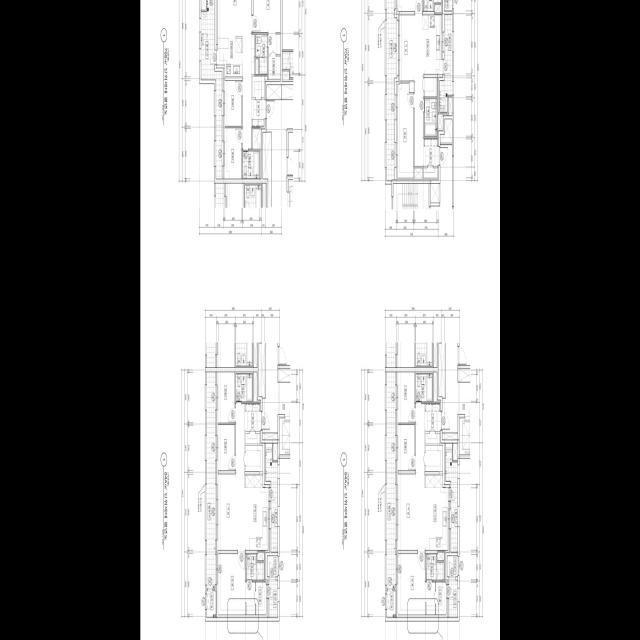background: (140, 0, 500, 640)
space_balconi: (201, 0, 222, 179), (386, 0, 397, 181), (206, 372, 215, 589), (386, 372, 395, 589), (445, 444, 457, 552), (265, 444, 277, 552), (439, 15, 452, 112), (449, 579, 457, 618), (269, 579, 277, 618)
space_bedroom: (218, 554, 245, 615), (398, 554, 425, 615), (397, 83, 413, 178), (224, 128, 241, 179), (218, 372, 235, 423), (253, 0, 280, 32), (398, 372, 414, 423), (398, 425, 414, 471), (218, 425, 234, 471), (225, 81, 241, 126), (397, 0, 422, 11)
space_dressroom: (246, 582, 266, 615), (426, 582, 446, 615), (268, 34, 280, 79)
space_front: (423, 139, 439, 178), (424, 404, 441, 432), (244, 404, 261, 432), (251, 99, 266, 127)
space_kitchen: (245, 475, 268, 550), (425, 475, 448, 550), (423, 15, 443, 74), (217, 36, 242, 77)
space_living_room: (217, 0, 254, 149), (398, 404, 425, 550), (218, 404, 245, 550), (399, 15, 423, 166)
space_other: (245, 445, 262, 472), (425, 445, 442, 472), (440, 119, 452, 143), (252, 76, 264, 97), (424, 78, 437, 97), (267, 556, 277, 577), (447, 556, 457, 577), (430, 184, 440, 203), (252, 129, 260, 149), (245, 434, 260, 444), (425, 434, 439, 444), (262, 433, 277, 440), (442, 433, 457, 440), (253, 372, 256, 402), (433, 372, 436, 402), (444, 0, 452, 11), (414, 168, 422, 178), (437, 114, 442, 129), (448, 97, 452, 115), (273, 444, 277, 460), (453, 444, 457, 460), (257, 552, 264, 561), (437, 552, 444, 561), (434, 5, 441, 13), (201, 0, 206, 10), (255, 59, 258, 74)
space_outdoor_room: (206, 591, 216, 618), (386, 591, 396, 618)
space_toilet: (424, 99, 437, 137), (255, 34, 267, 74), (235, 374, 252, 402), (242, 151, 259, 179), (415, 374, 432, 402), (246, 554, 264, 580), (426, 554, 444, 580), (423, 0, 441, 11)
